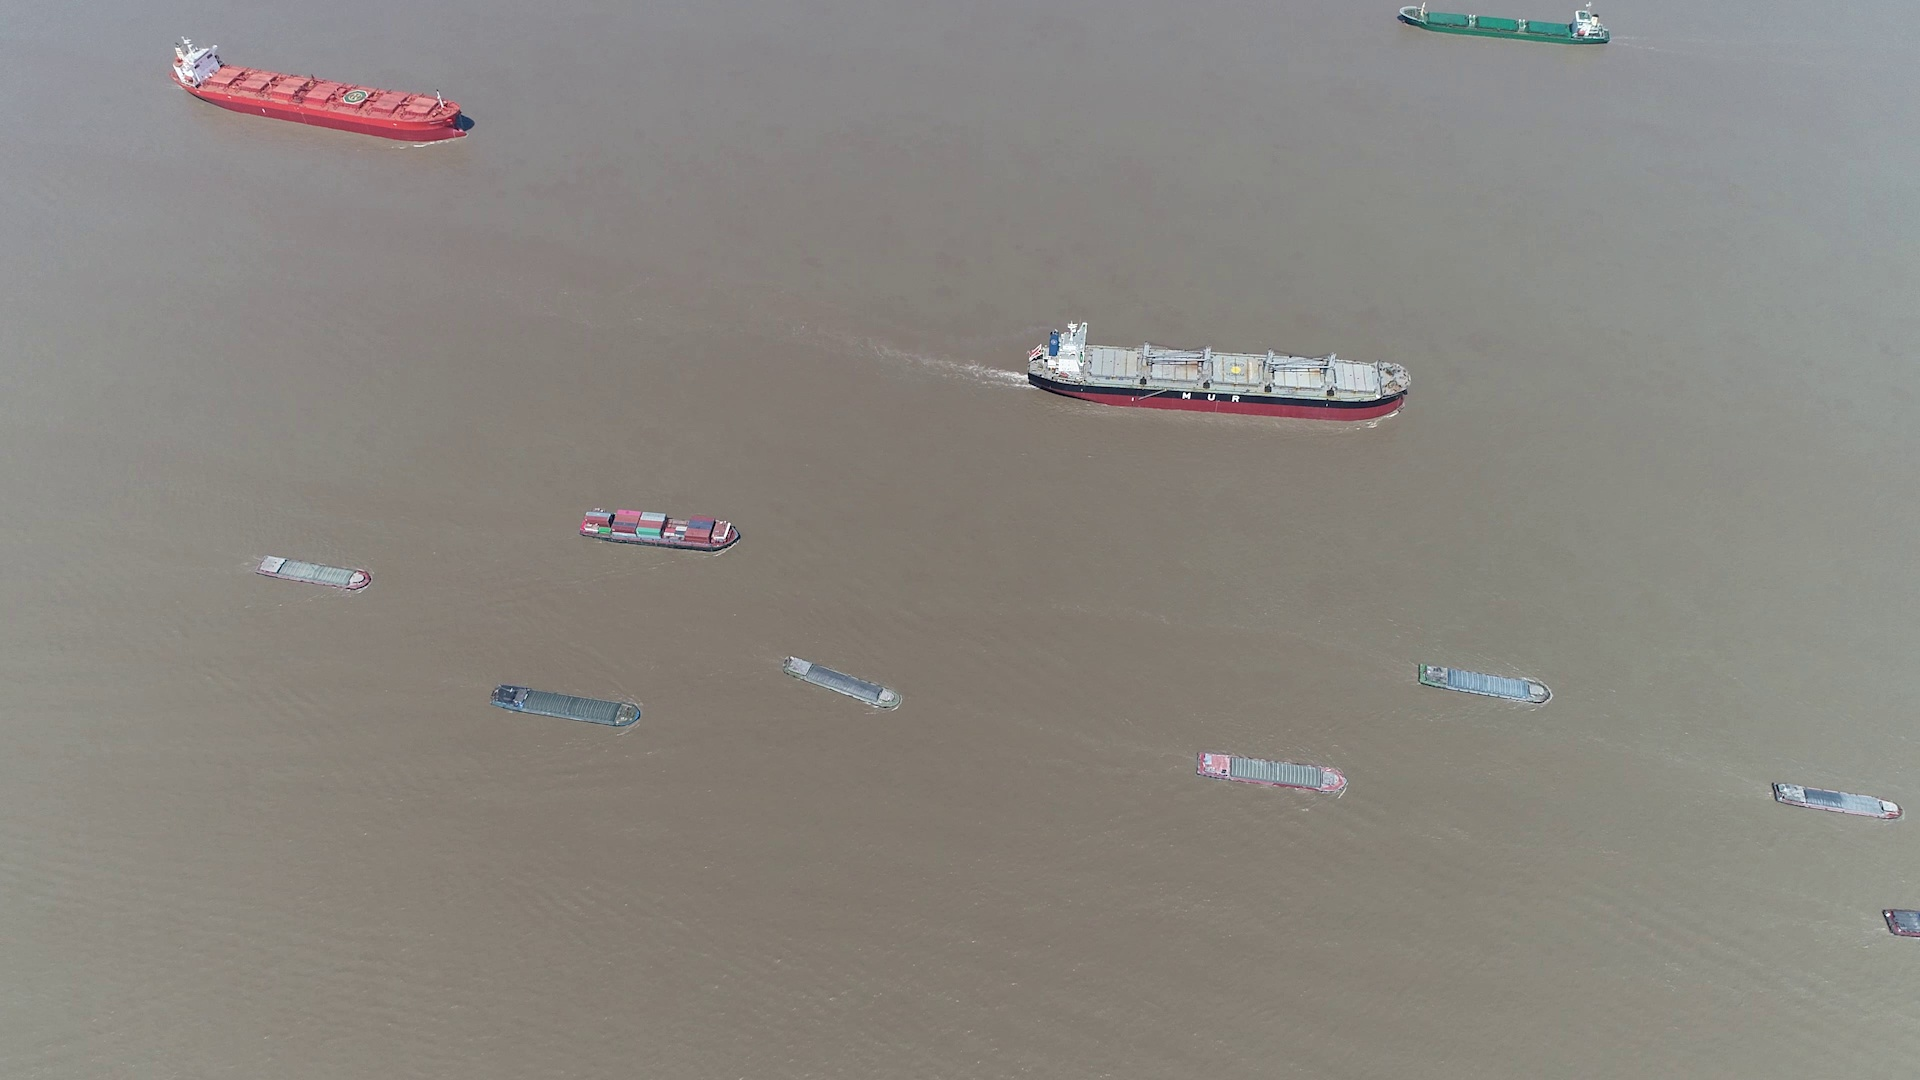ship: (1029, 327, 1414, 421), (169, 37, 468, 142), (1396, 7, 1609, 44), (578, 506, 744, 553), (491, 684, 645, 729), (783, 654, 899, 709), (1195, 753, 1346, 793), (1418, 665, 1553, 703), (1770, 782, 1903, 820), (255, 555, 371, 591), (1884, 909, 1919, 939)
